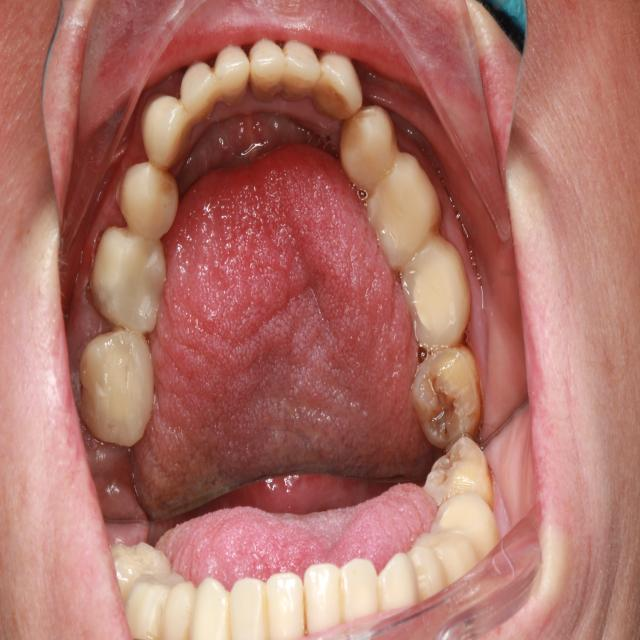tooth: (75, 323, 161, 452), (364, 146, 446, 277), (403, 334, 491, 452), (85, 219, 172, 338), (395, 228, 474, 353), (334, 94, 403, 197), (116, 156, 184, 243), (137, 87, 197, 173), (310, 42, 367, 121), (177, 55, 224, 125), (280, 33, 323, 105), (211, 38, 251, 109), (247, 37, 286, 103)
